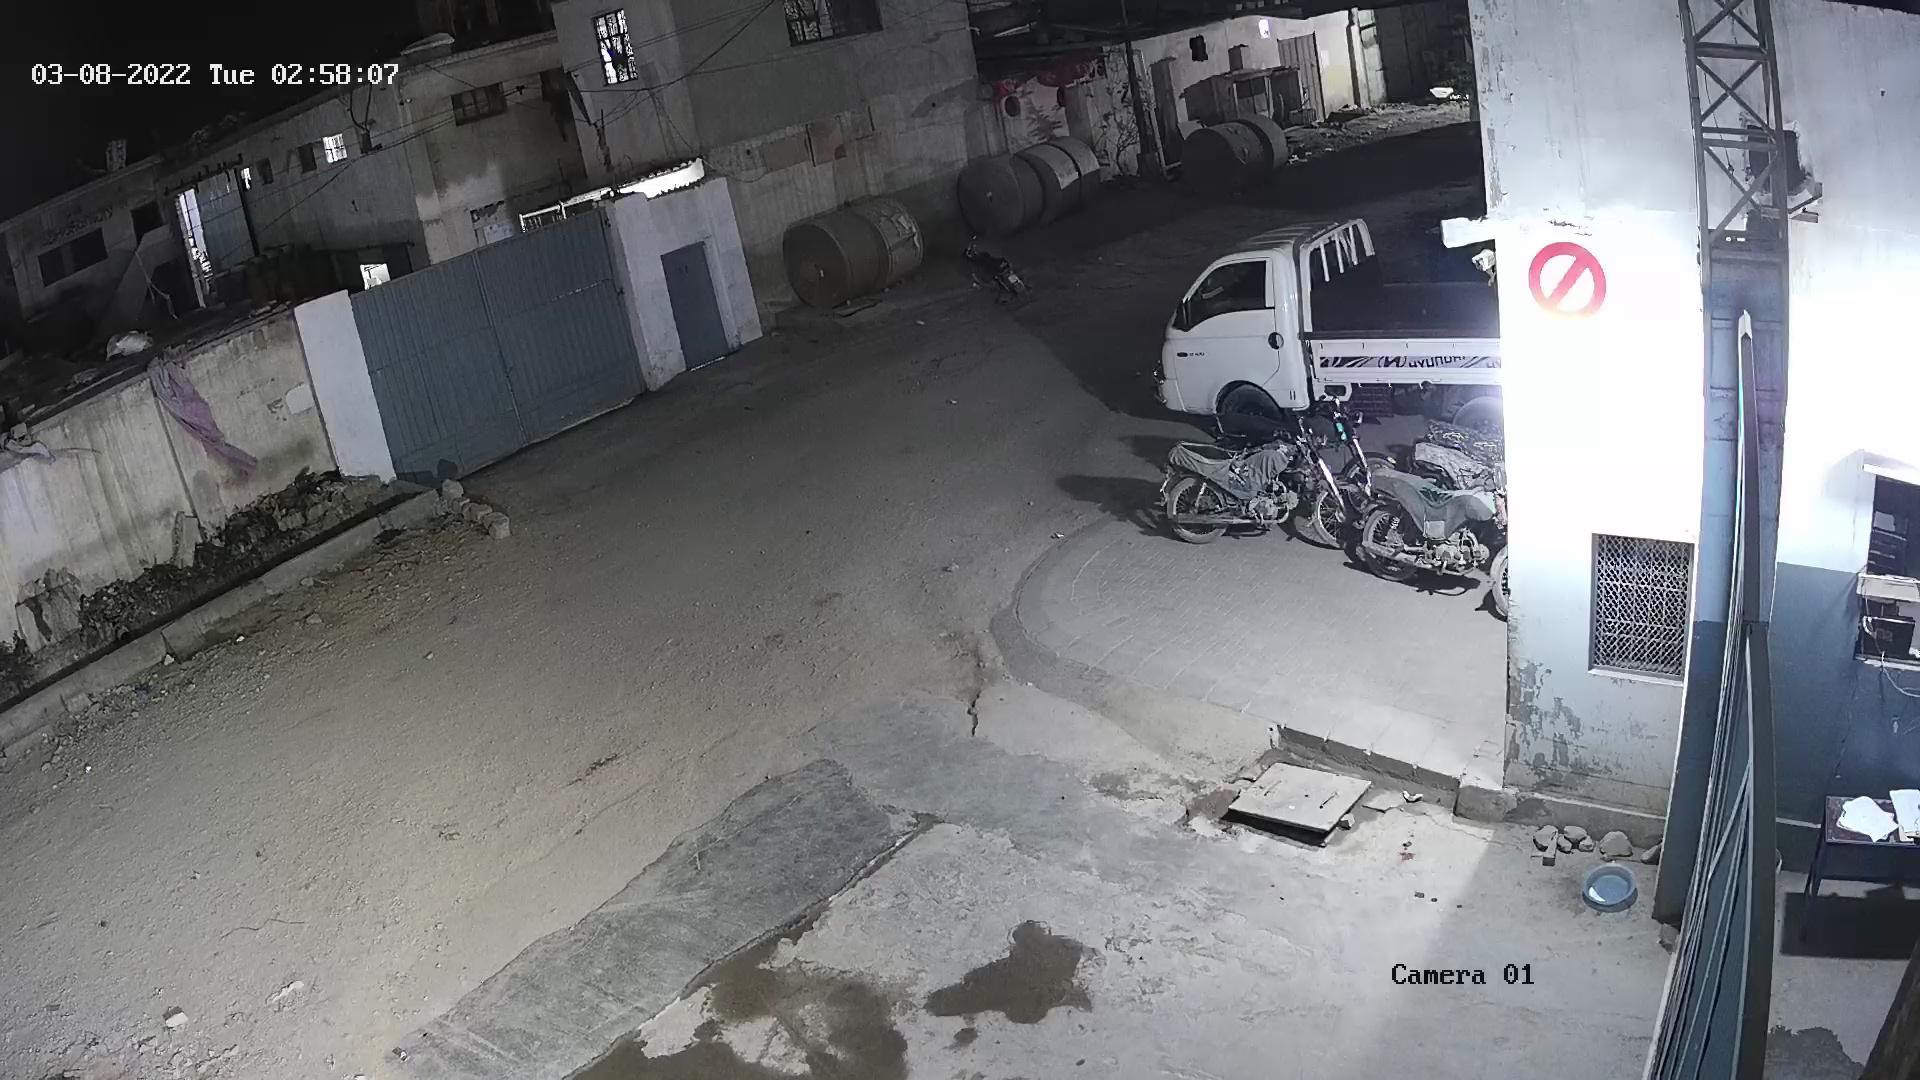Ltv: (1159, 220, 1498, 421)
bike: (1164, 433, 1354, 545), (1364, 468, 1509, 615), (1209, 410, 1391, 500), (1407, 440, 1498, 485), (965, 244, 1029, 303), (1423, 417, 1506, 451)
